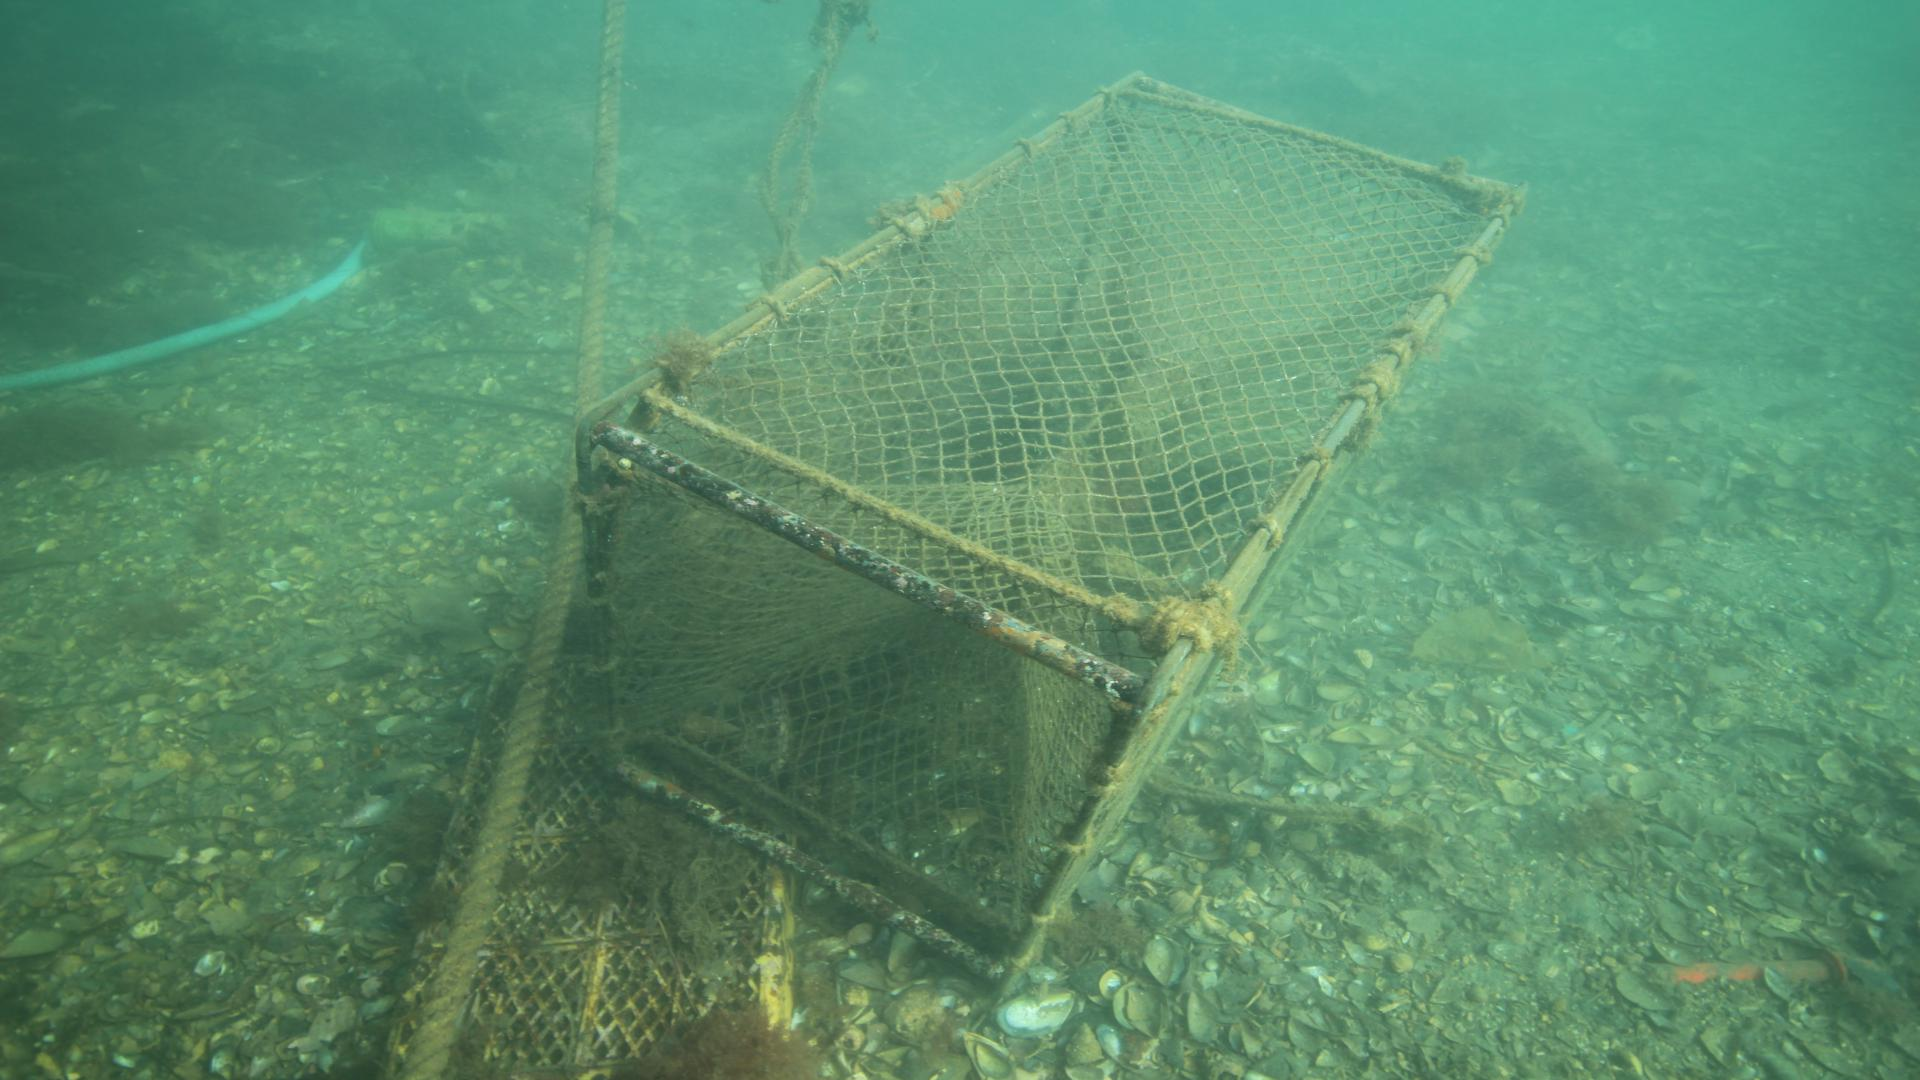bundle of ropes: (760, 0, 874, 243)
rectangular fish trap: (572, 70, 1532, 994)
rope: (400, 0, 626, 1080)
